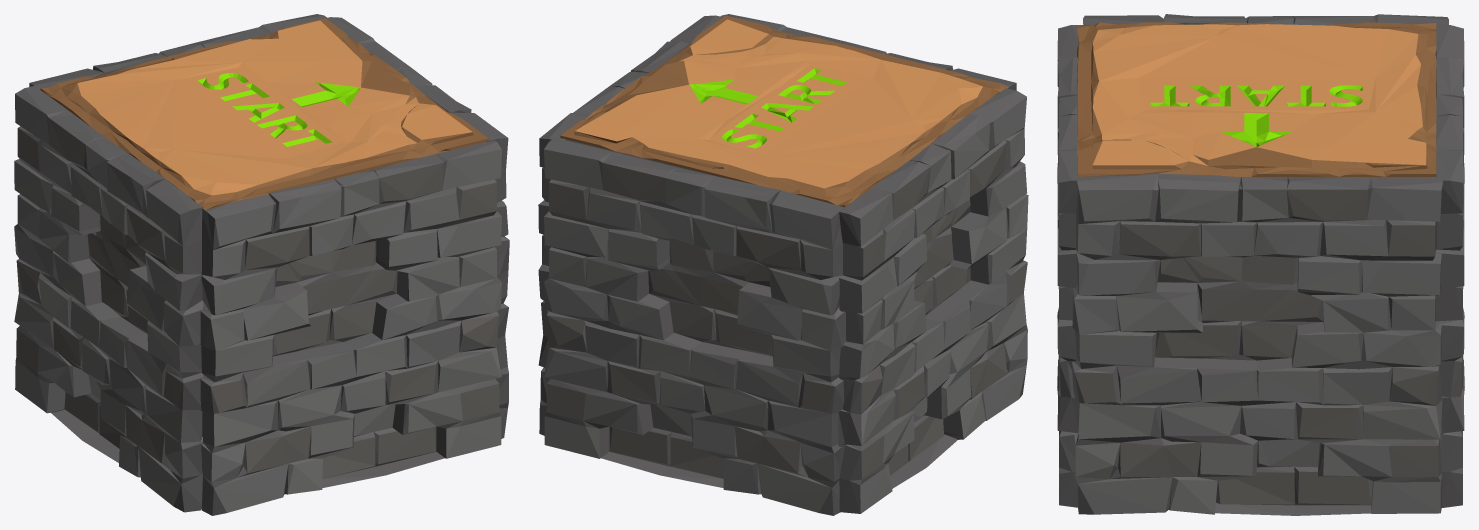
Rendered from SM_Env_Start_C.glb.
3 renders of one model, left to right at view 1: azimuth 30°, elevation 25°; view 2: azimuth 150°, elevation 25°; view 3: azimuth 270°, elevation 25°, orthographic. The views are drawn at different scales.
Visible parts, largest first — view 1: SM_Env_Start_C; view 2: SM_Env_Start_C; view 3: SM_Env_Start_C.
Boxes of the visible parts, <box> form: SM_Env_Start_C: <box>14,14,509,515</box>; SM_Env_Start_C: <box>538,14,1028,515</box>; SM_Env_Start_C: <box>1057,14,1464,515</box>.
Bounding box in the file's own units: 5.74 × 5.2 × 5.68.
1 material, 1 textured.
